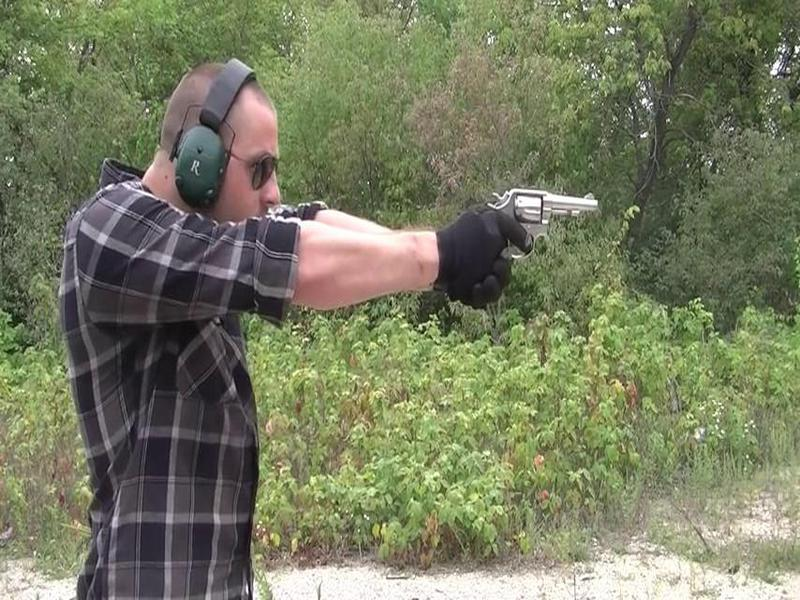Revolver: (486, 177, 602, 274)
